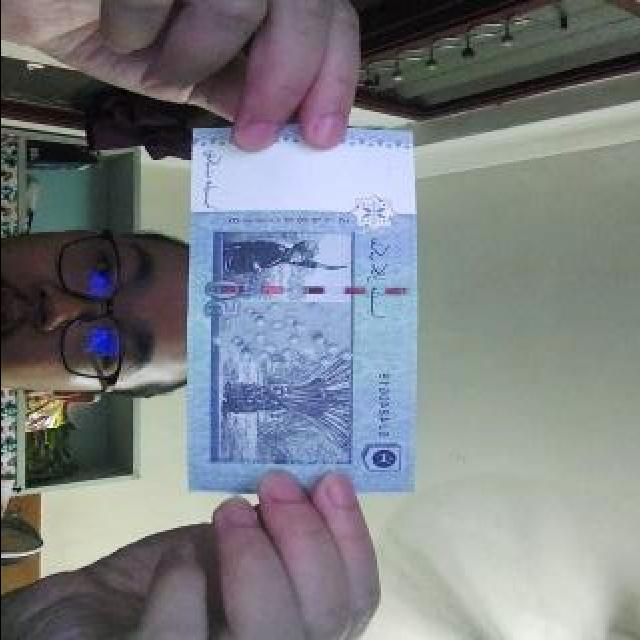50 Ringgit: (178, 122, 422, 506)
